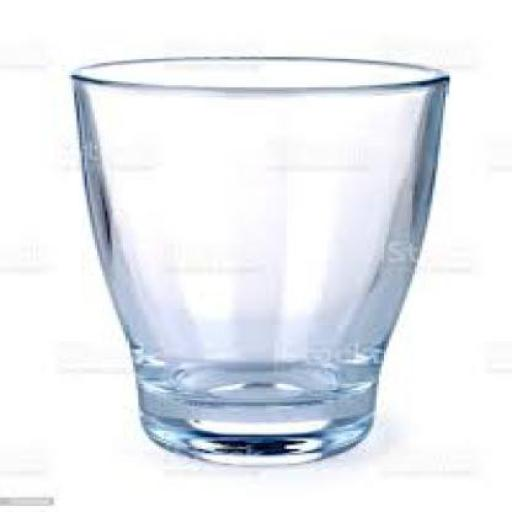glass: (69, 55, 448, 461)
